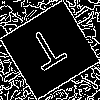T: (24, 25, 74, 80)
